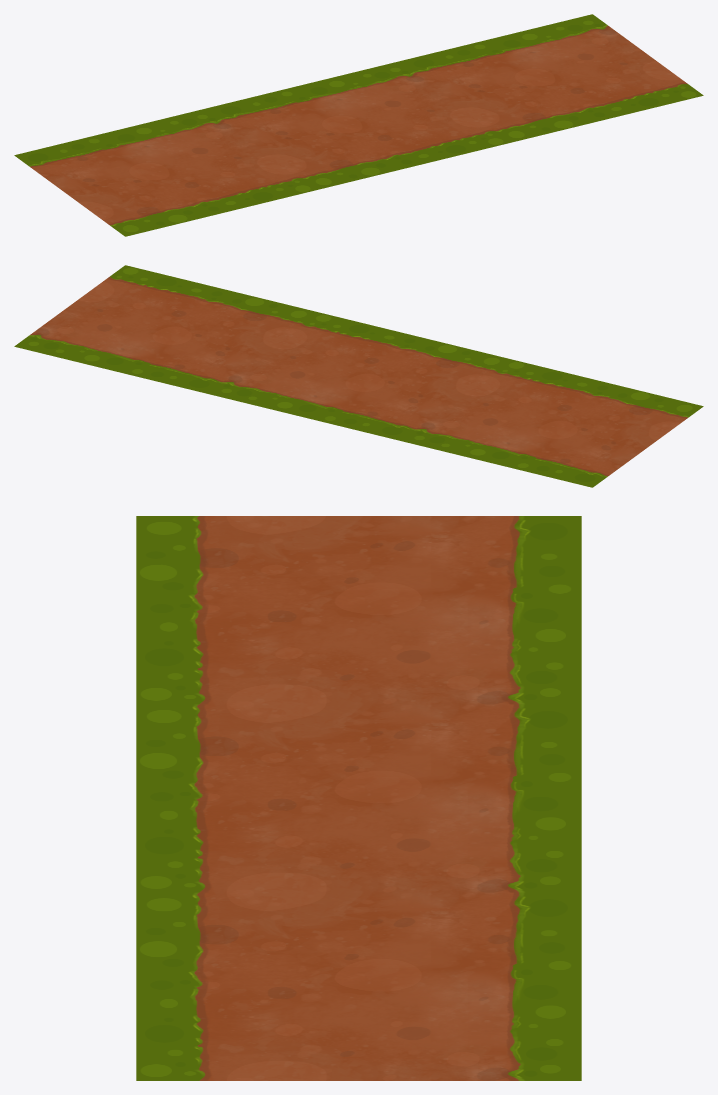
File: Floor.fbx
The picture shows the model from 3 angles, top to bottom: view 1: azimuth 30°, elevation 25°; view 2: azimuth 150°, elevation 25°; view 3: azimuth 270°, elevation 25°; orthographic projection. The views are drawn at different scales.
Parts seen in each view (by area): view 1: Plane001; view 2: Plane001; view 3: Plane001.
Part boxes in pixels (x1,y1,x2,y2): Plane001: (14, 14, 703, 236); Plane001: (14, 265, 703, 487); Plane001: (136, 516, 581, 1080).
Size of the model in its own units: 1800 by 3.67e-14 by 600.
